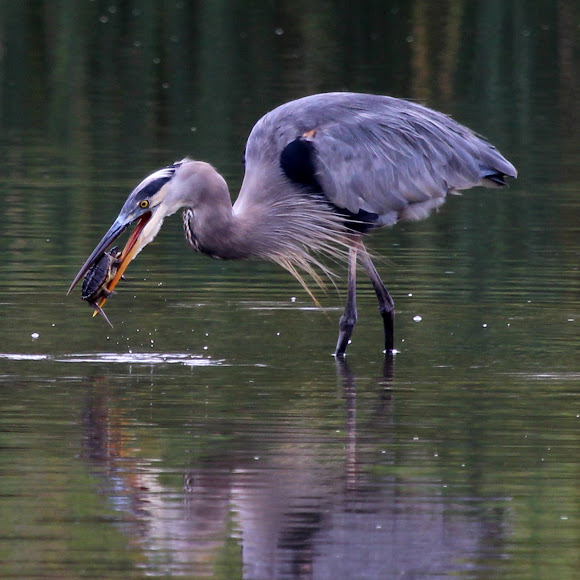heron: (60, 86, 522, 372)
